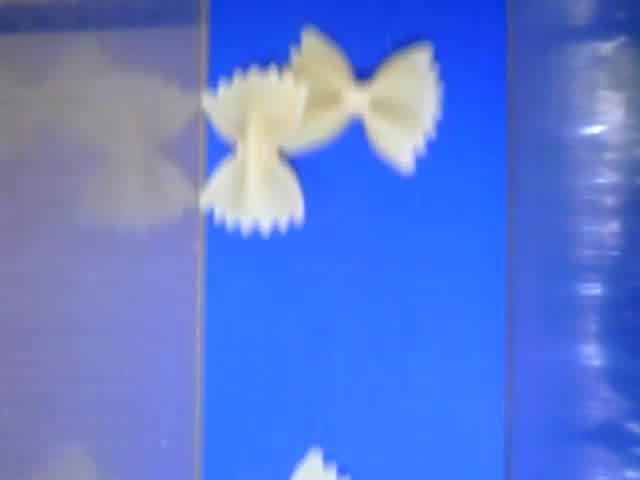farfalle: (273, 24, 441, 174), (203, 63, 306, 237), (287, 446, 353, 480)
